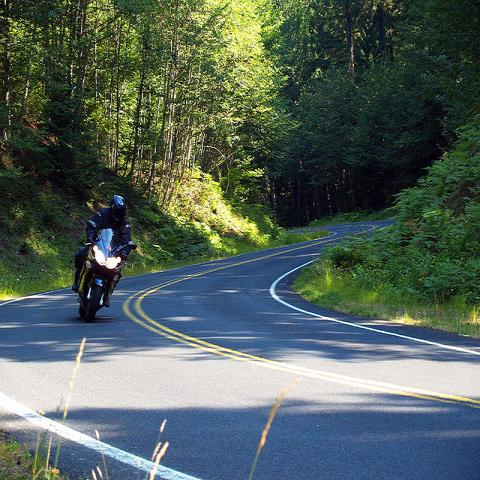motorcycle: (76, 219, 138, 317)
